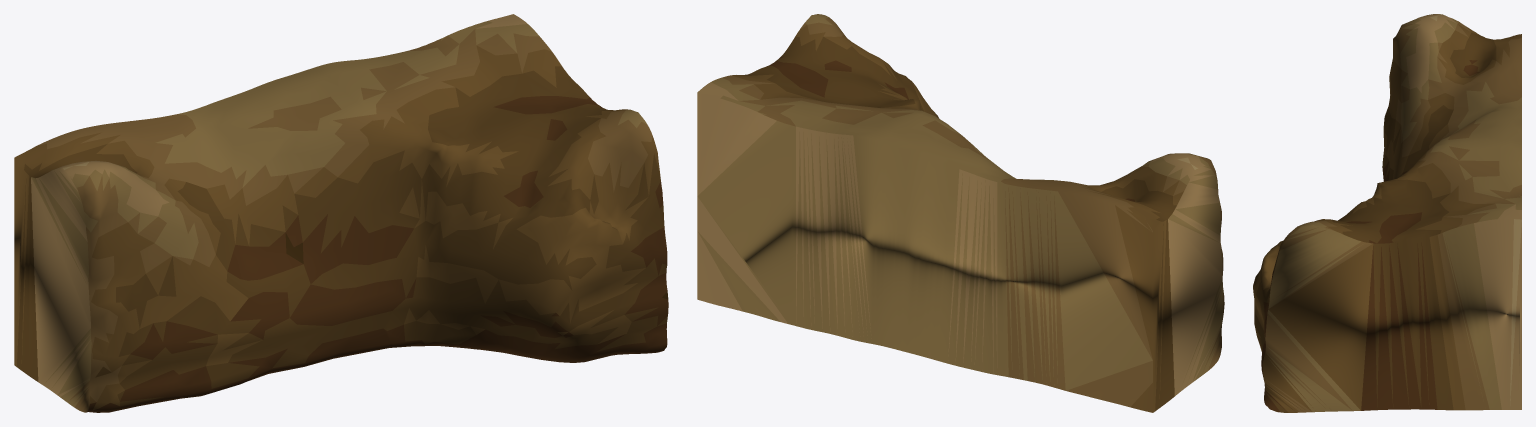
Rendered from rock_arch_208.glb.
The picture shows the model from 3 angles, left to right: view 1: azimuth 30°, elevation 25°; view 2: azimuth 150°, elevation 25°; view 3: azimuth 270°, elevation 25°; orthographic projection. The views are drawn at different scales.
Parts seen in each view (by area): view 1: rock_arch_208; view 2: rock_arch_208; view 3: rock_arch_208.
Part boxes in pixels (x1,y1,x2,y2): rock_arch_208: (14, 14, 668, 412); rock_arch_208: (697, 14, 1224, 412); rock_arch_208: (1253, 14, 1521, 412).
Bounding box in the file's own units: 24 × 10.95 × 13.38.
